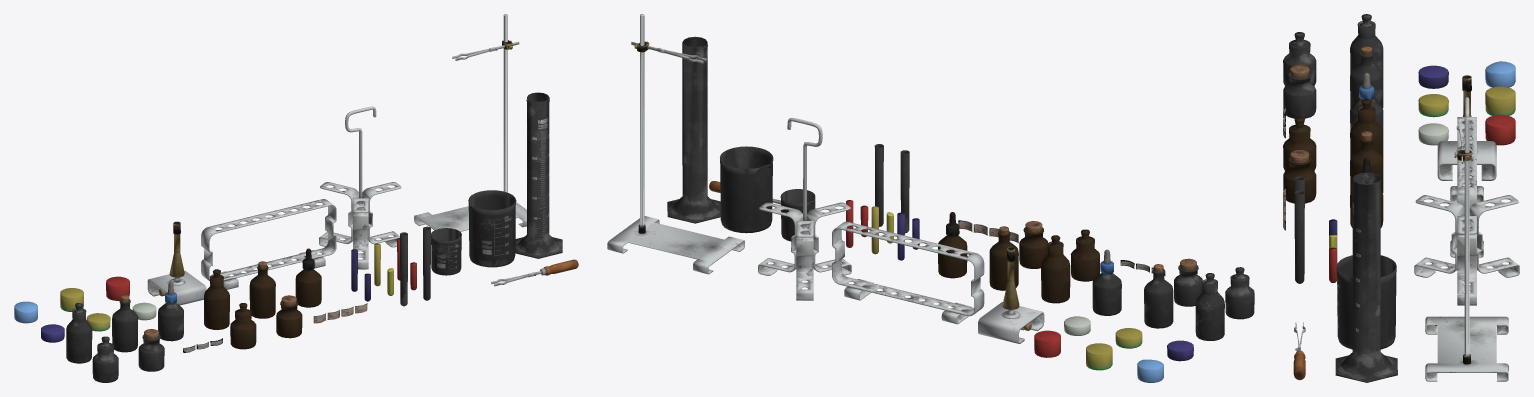
The model's file is chemistry_set.glb.
3 renders of one model, left to right at view 1: azimuth 30°, elevation 25°; view 2: azimuth 150°, elevation 25°; view 3: azimuth 270°, elevation 25°, orthographic. The views are drawn at different scales.
Visible parts, largest first — view 1: chemistry_set_beaker_large, chemistry_set_test_tube_content_b; view 2: chemistry_set_beaker_large, chemistry_set_test_tube_content_b; view 3: chemistry_set_beaker_large, chemistry_set_test_tube_content_b.
Boxes of the visible parts, <box> form: chemistry_set_beaker_large: <box>41,92,562,382</box>; chemistry_set_test_tube_content_b: <box>14,14,578,339</box>; chemistry_set_beaker_large: <box>667,36,1254,370</box>; chemistry_set_test_tube_content_b: <box>607,14,1196,382</box>; chemistry_set_beaker_large: <box>1283,14,1515,382</box>; chemistry_set_test_tube_content_b: <box>1290,46,1519,381</box>.
Size of the model in its own units: 1.08 by 0.429 by 0.3539.
2 materials, 2 textured.
